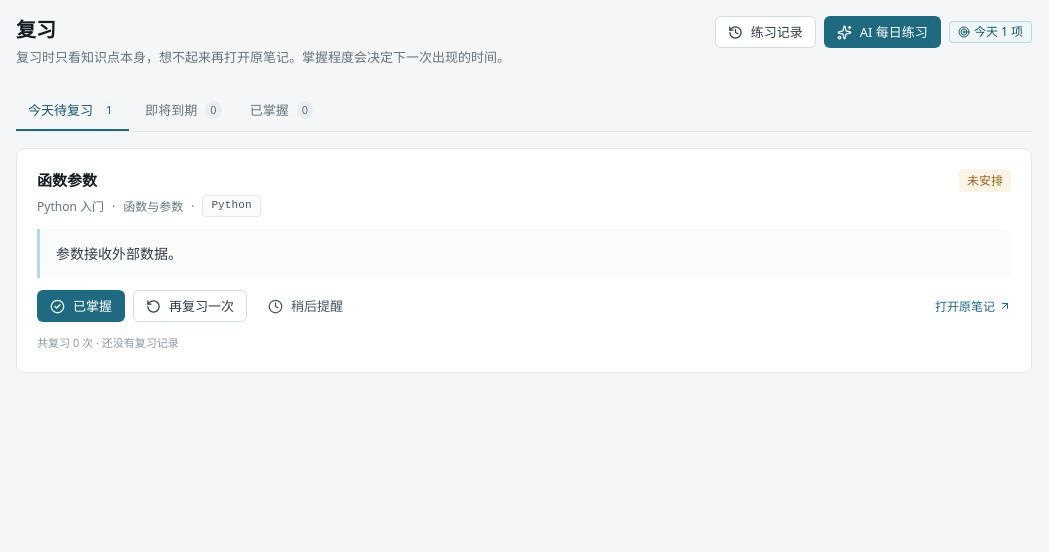
Scenario: AI review setup › keeps setup open and shows a retryable error when question generation fails
Click the button "AI 每日练习" at {"x": 882, "y": 32}, box x1=824 y1=16 x2=941 y2=48
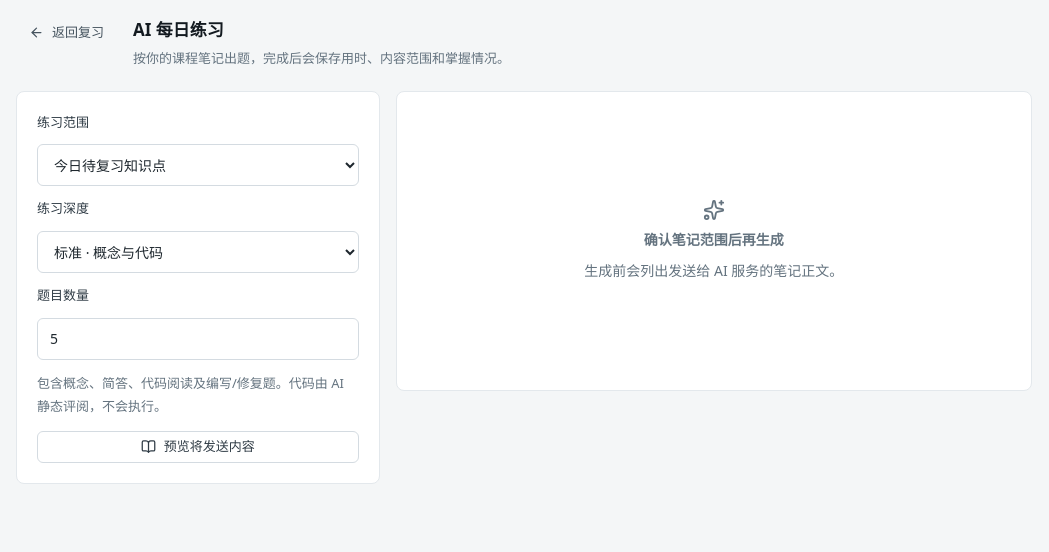
Click the button "预览将发送内容" at {"x": 198, "y": 447}, box x1=37 y1=431 x2=359 y2=463
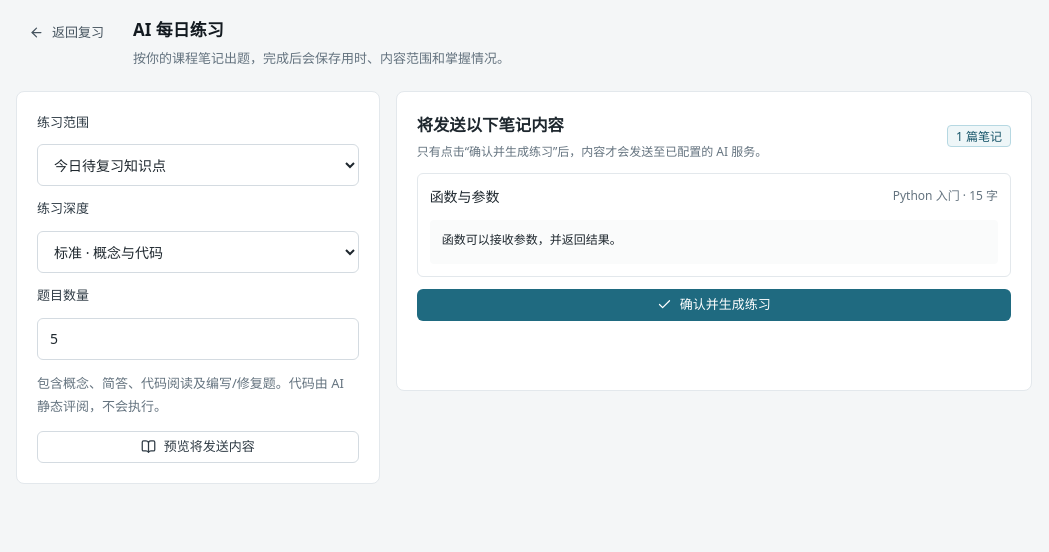
Click the button "确认并生成练习" at {"x": 714, "y": 304}, box x1=417 y1=288 x2=1011 y2=320
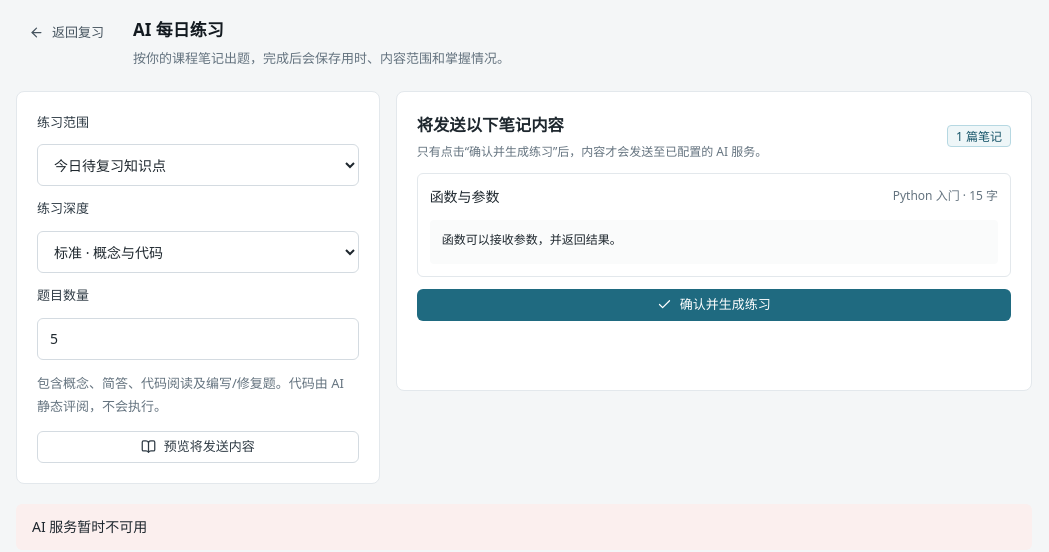
Now the message reads "AI 服务暂时不可用", box x1=32 y1=517 x2=147 y2=536
